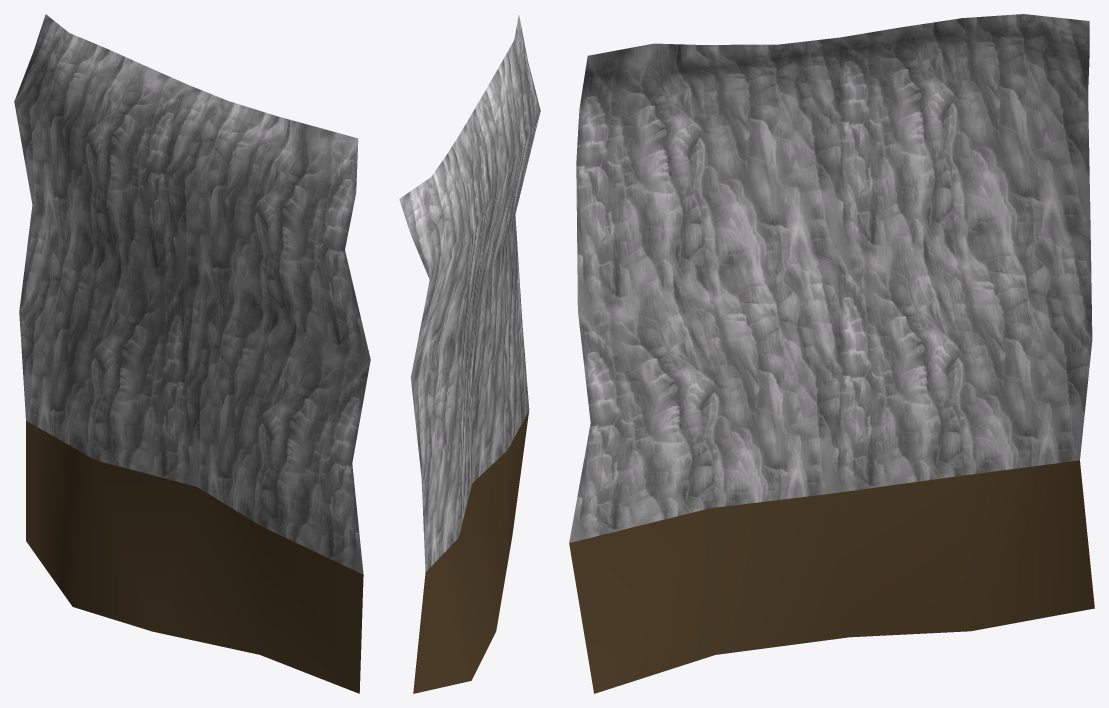
Rendered from SWORDLIGHT20_PS-AREA03_67.fbx.
3 renders of one model, left to right at view 1: azimuth 30°, elevation 25°; view 2: azimuth 150°, elevation 25°; view 3: azimuth 270°, elevation 25°, orthographic. The views are drawn at different scales.
Visible parts, largest first — view 1: SWORDLIGHT20_PS-AREA03_67; view 2: SWORDLIGHT20_PS-AREA03_67; view 3: SWORDLIGHT20_PS-AREA03_67.
Part boxes in pixels (box(x1,y1,x2,y2)): SWORDLIGHT20_PS-AREA03_67: box(14, 14, 370, 693); SWORDLIGHT20_PS-AREA03_67: box(399, 15, 540, 693); SWORDLIGHT20_PS-AREA03_67: box(569, 14, 1094, 693).
Bounding box in the file's own units: 49438 × 200962 × 149454.
2 materials, 2 textured.
